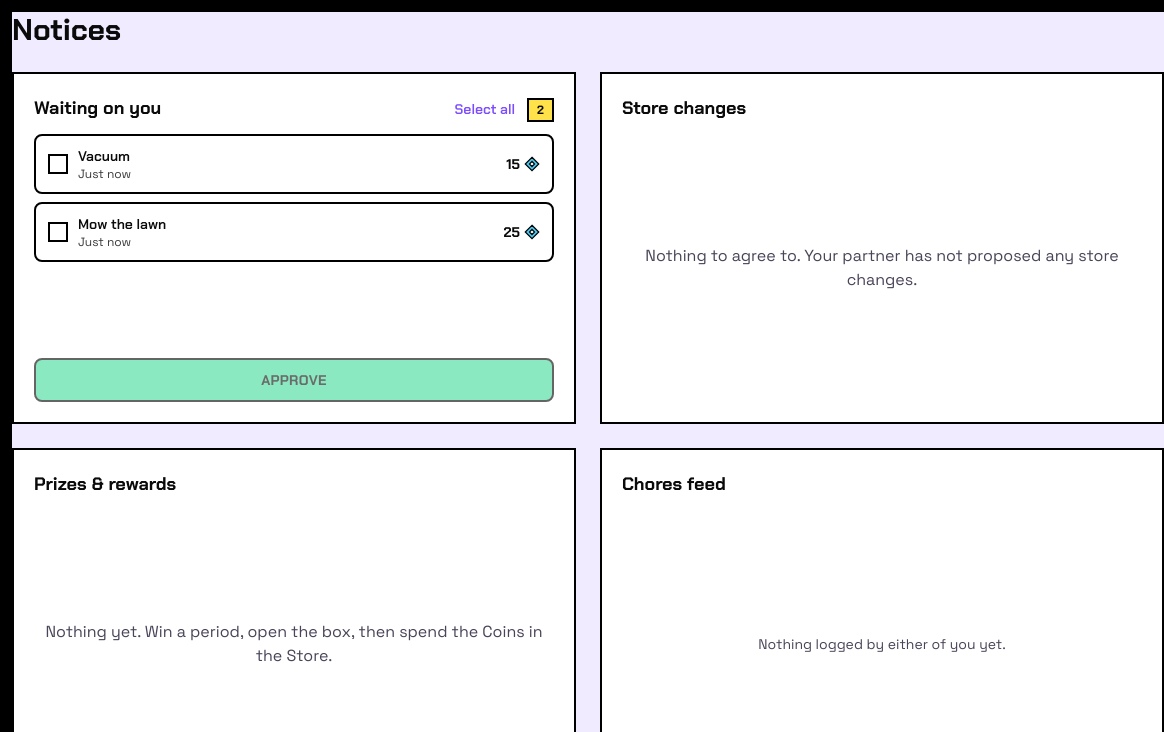
Test: selection › offers Reject for one selection and not for two
Click the button "Vacuum Just now 15". click: point(104, 156)
box: [34,134,554,194]
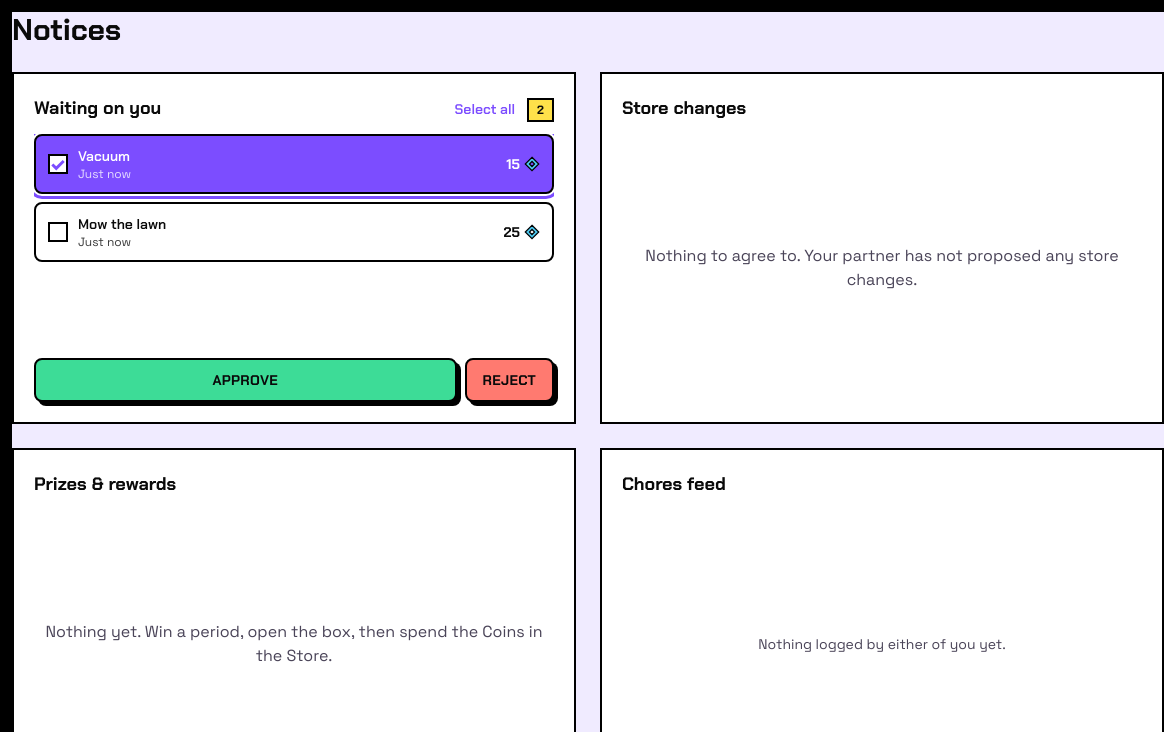
Expected: the button "Reject" is shown, [464,358,554,402]
Click the button "Mow the lawn Just now 25". click: point(122, 224)
box: [34,202,554,262]
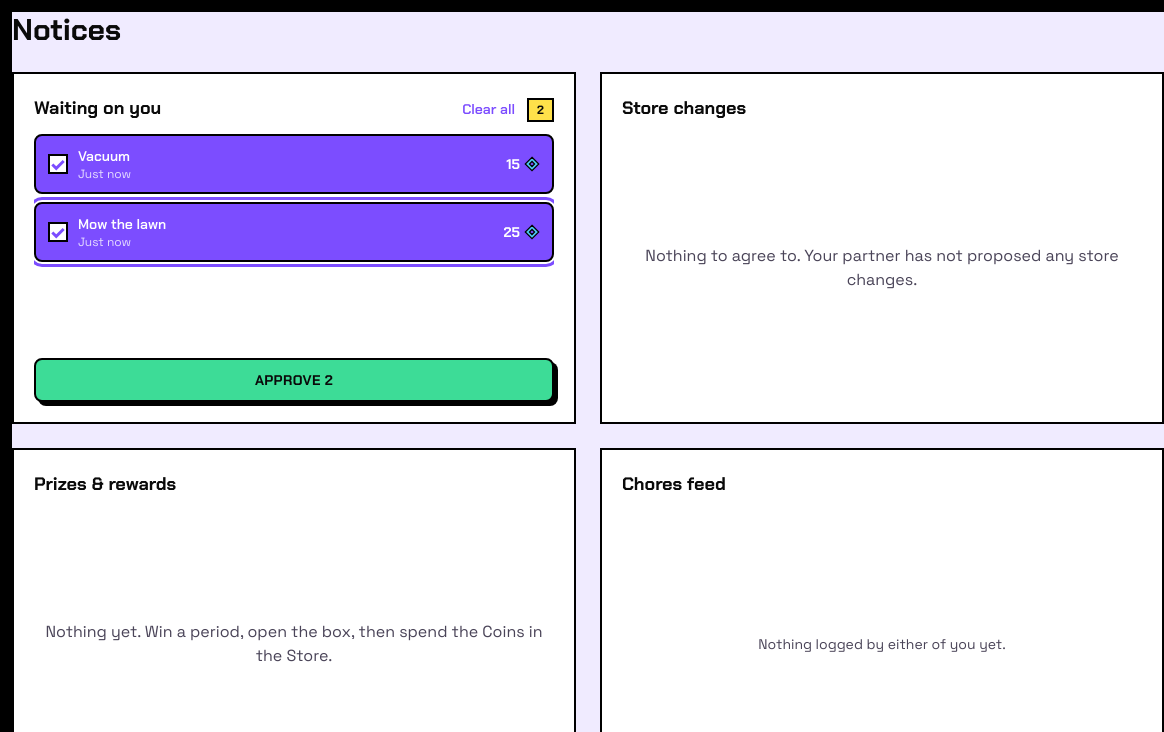
Expected: the button "Reject" is gone
